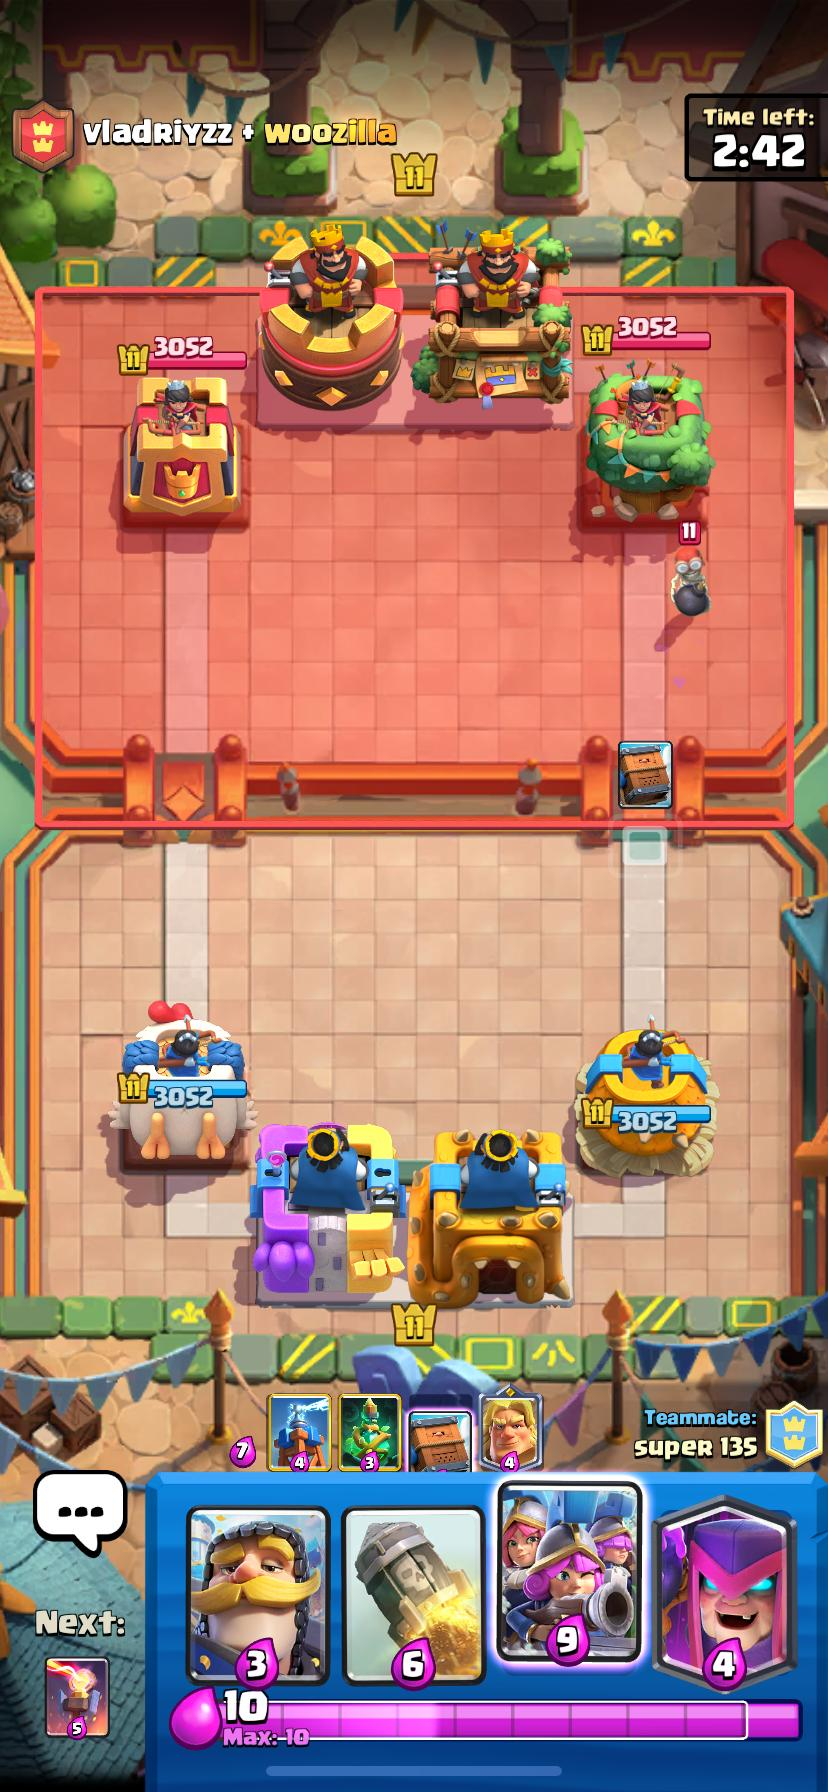EBomber: (669, 518, 710, 618)
EKingTower: (257, 223, 401, 410), (428, 227, 571, 405)
EnemyPrincessTower: (586, 366, 714, 521), (124, 376, 240, 519)
OwnKingTower: (407, 1129, 571, 1305), (253, 1123, 401, 1301)
OwnPrincessTower: (576, 1017, 716, 1173), (116, 1016, 253, 1159)
